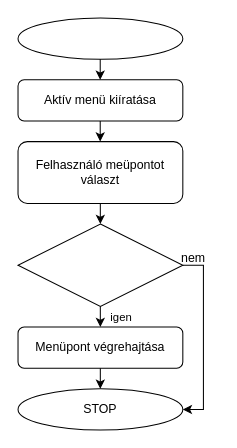
The diagram is 237 pixels wide and 448 high, and some of its shapes have lost their labels. The shapes that lost their labels are listed below. From the top down, each one's centre as x and y in pixels, then its label:
(x=100, y=38): START
(x=100, y=264): Választott menüpont valós
